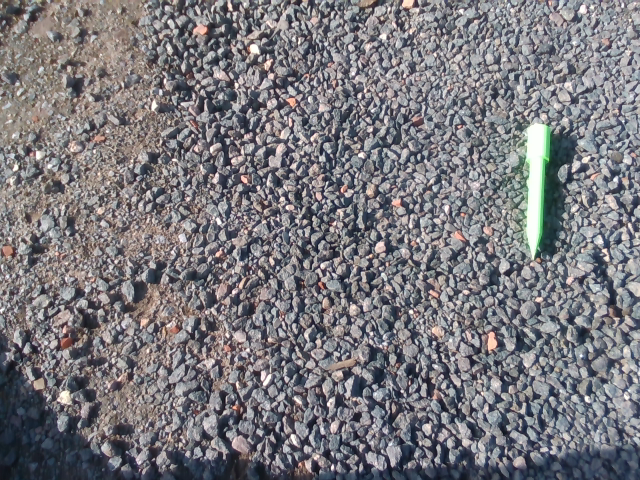Probe: (520, 118, 556, 265)
